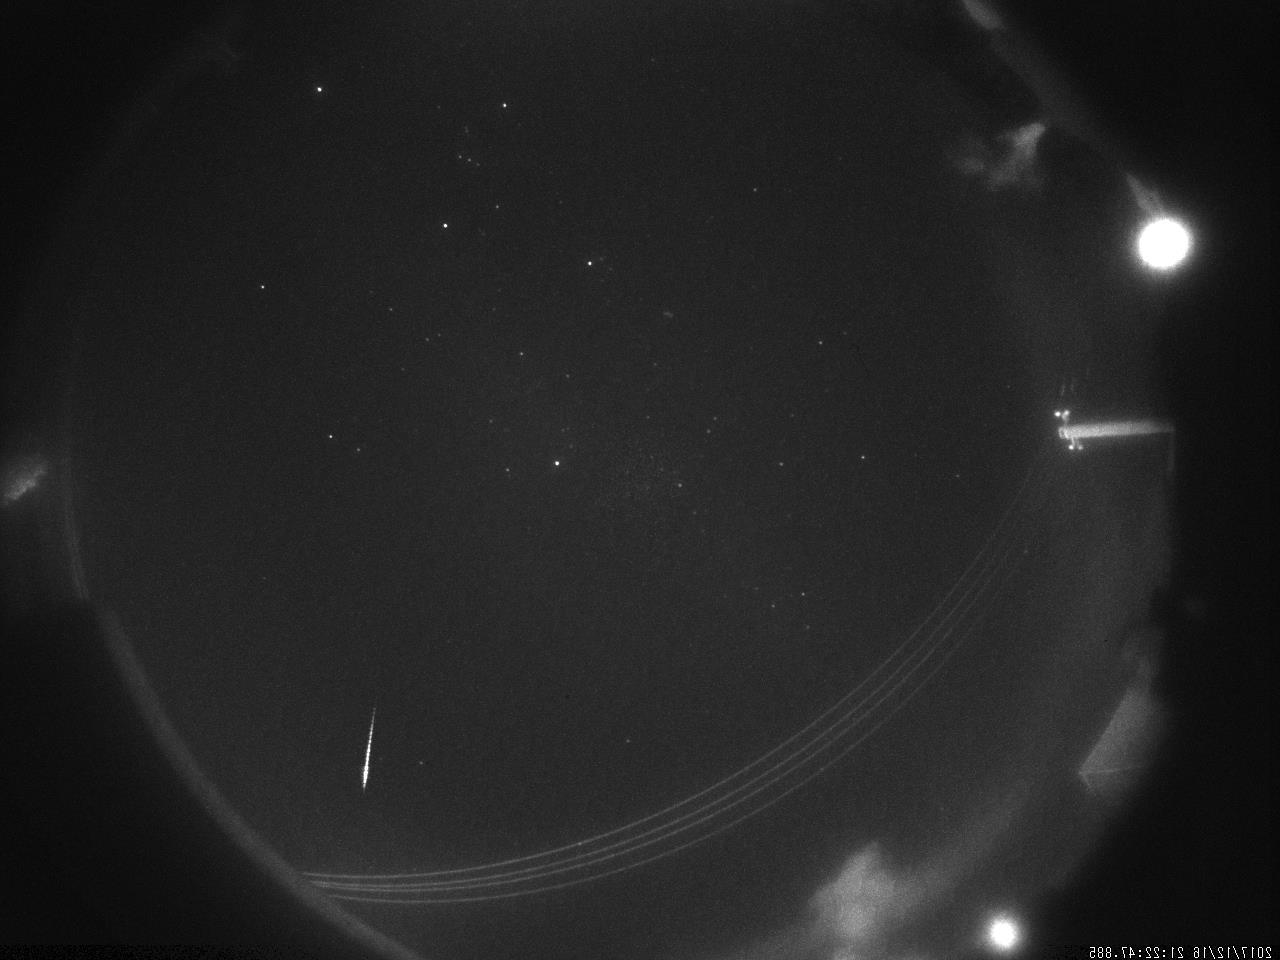meteor: (329, 699, 387, 806)
